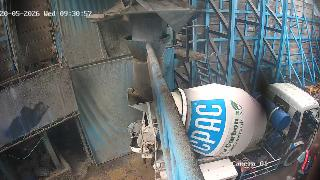cement_mixer_truck: (127, 83, 320, 180)
swing_chute: (124, 35, 170, 98)
